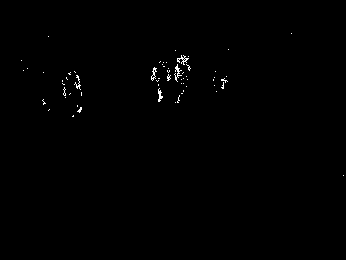person: (62, 69, 84, 117), (150, 57, 170, 102), (173, 56, 191, 104)
